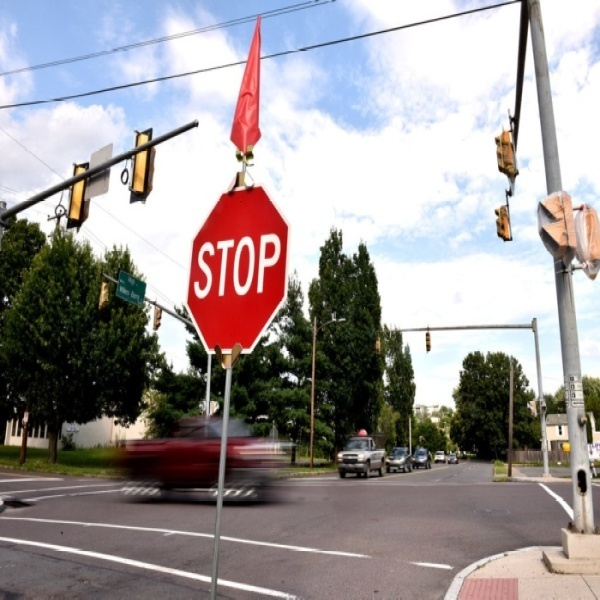stop: (181, 182, 298, 353)
